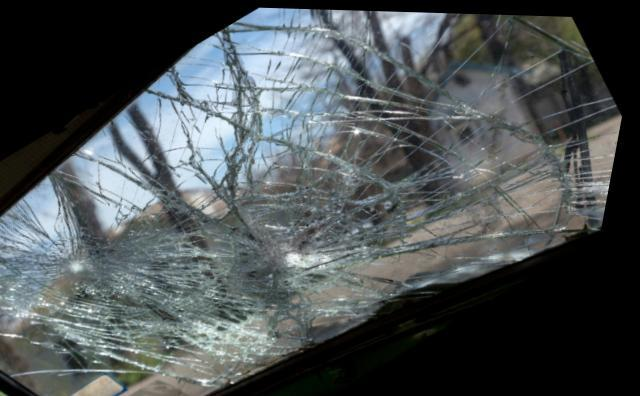glass shatter: (0, 6, 626, 396)
